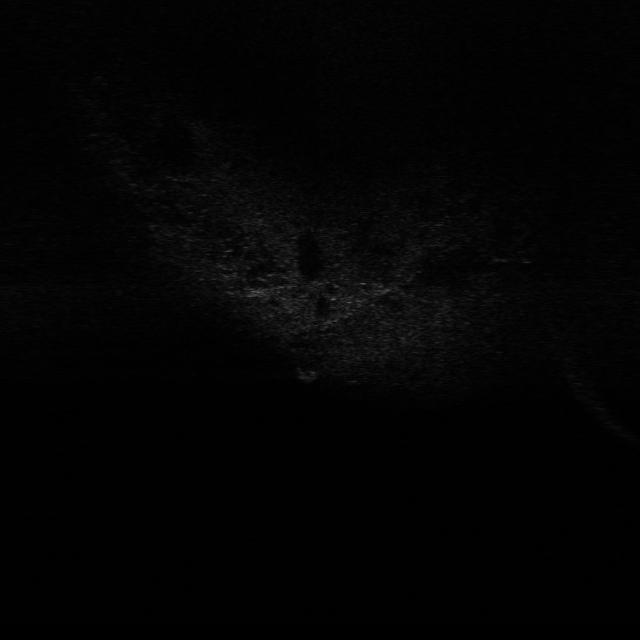cube: (293, 364, 323, 383)
